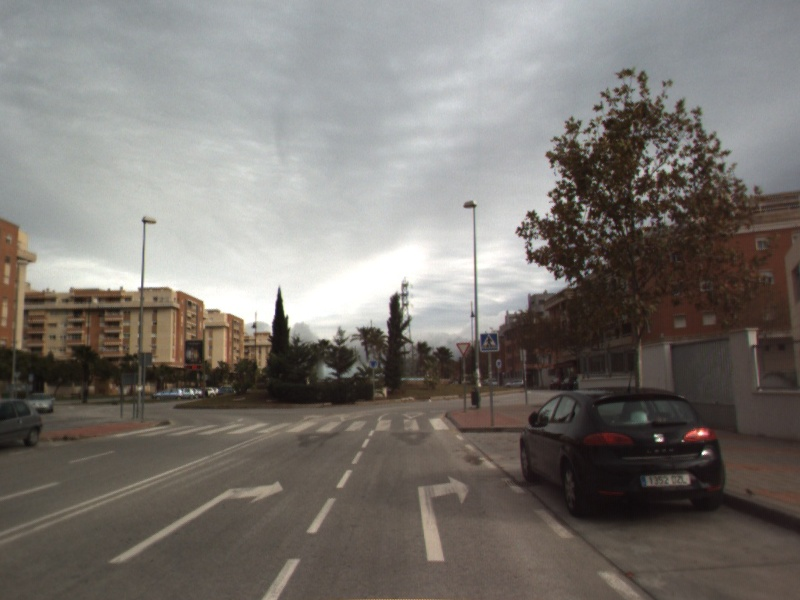RIGHT: (106, 479, 285, 566), (416, 473, 472, 563)
